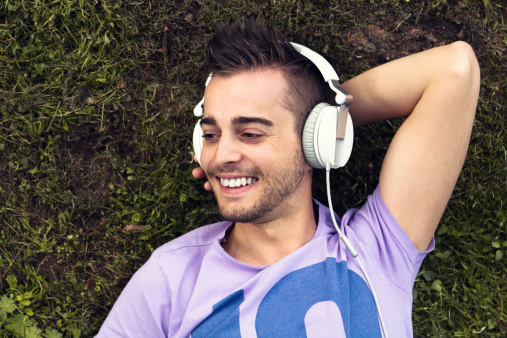deitado: (93, 9, 473, 338)
